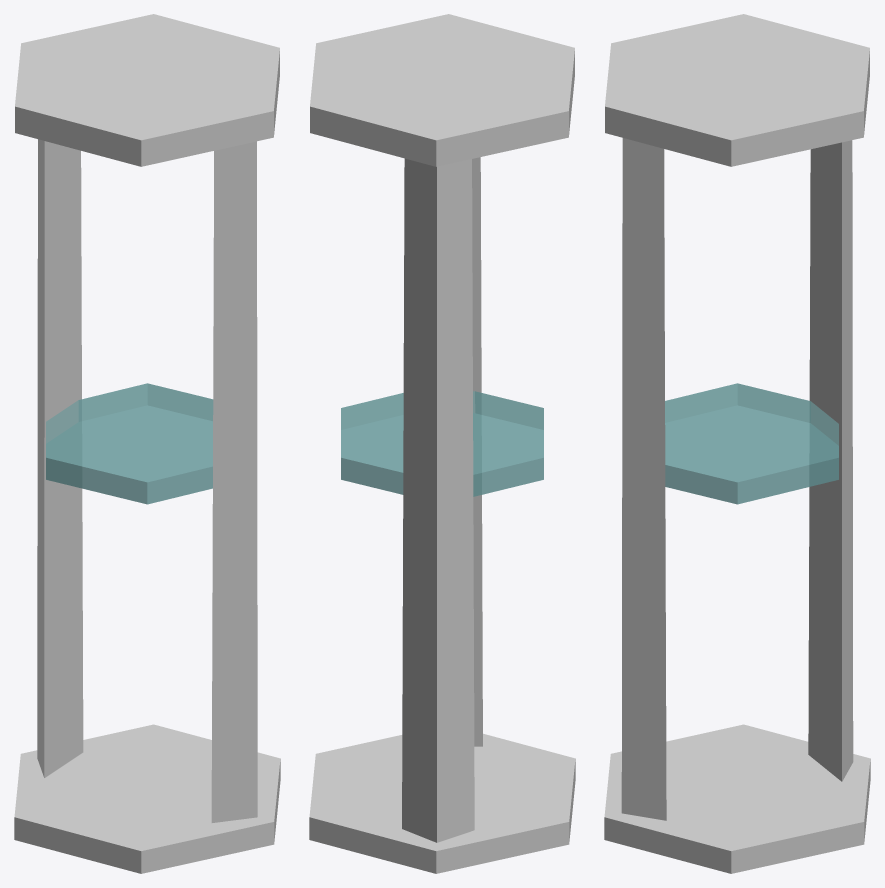
File: Elevador_Luna.fbx
The picture shows the model from 3 angles, left to right: view 1: azimuth 30°, elevation 25°; view 2: azimuth 150°, elevation 25°; view 3: azimuth 270°, elevation 25°; orthographic projection.
Visible parts, largest first — view 1: Level06_ElevatorBody07, Level06_ElevatorBase07; view 2: Level06_ElevatorBody07, Level06_ElevatorBase07; view 3: Level06_ElevatorBody07, Level06_ElevatorBase07.
Boxes of the visible parts, bbox=[...] form: Level06_ElevatorBody07: bbox=[14, 14, 280, 873]; Level06_ElevatorBase07: bbox=[46, 383, 213, 504]; Level06_ElevatorBody07: bbox=[309, 14, 575, 873]; Level06_ElevatorBase07: bbox=[341, 391, 543, 496]; Level06_ElevatorBody07: bbox=[604, 14, 870, 873]; Level06_ElevatorBase07: bbox=[665, 383, 838, 504].
Bounding box in the file's own units: 183 × 493 × 162.
